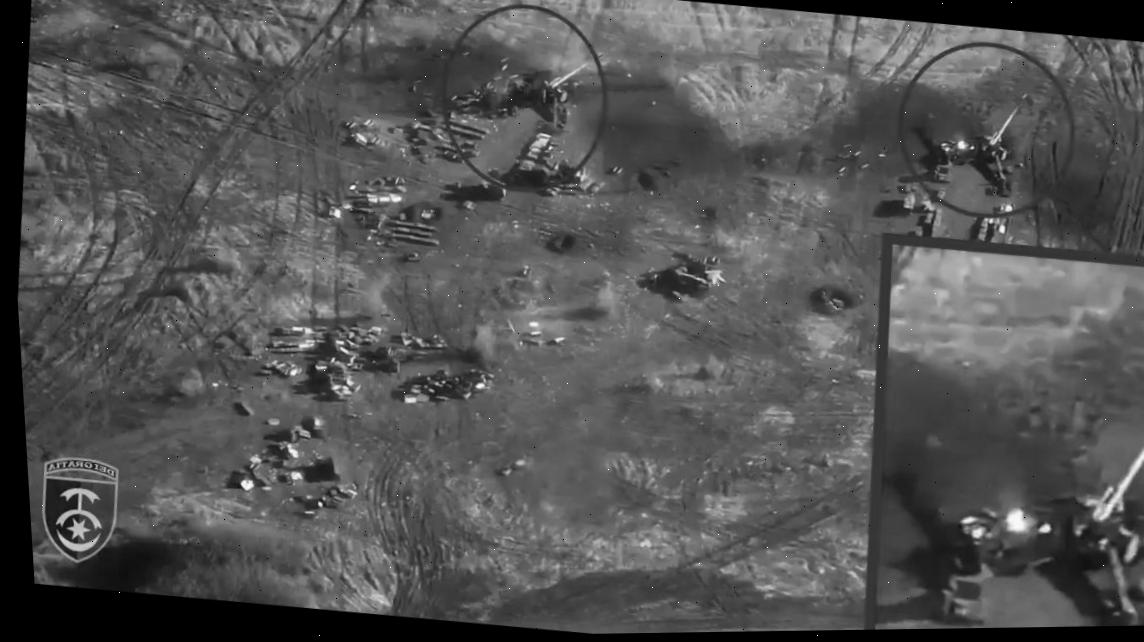sau: (956, 359, 1144, 628), (929, 82, 1034, 198), (501, 50, 596, 132)
